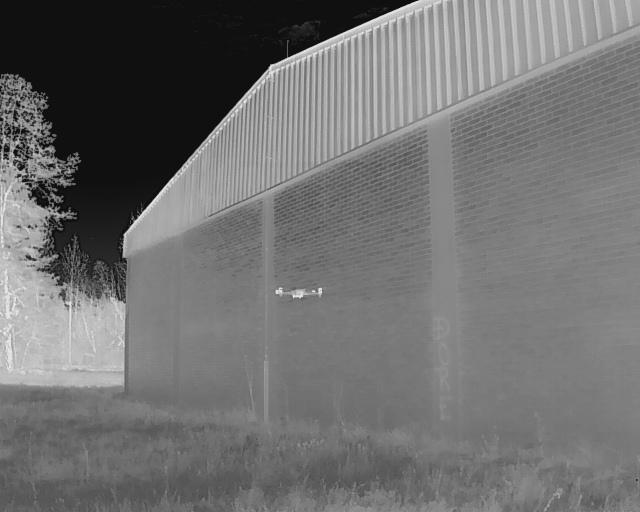drone: (269, 279, 328, 306)
